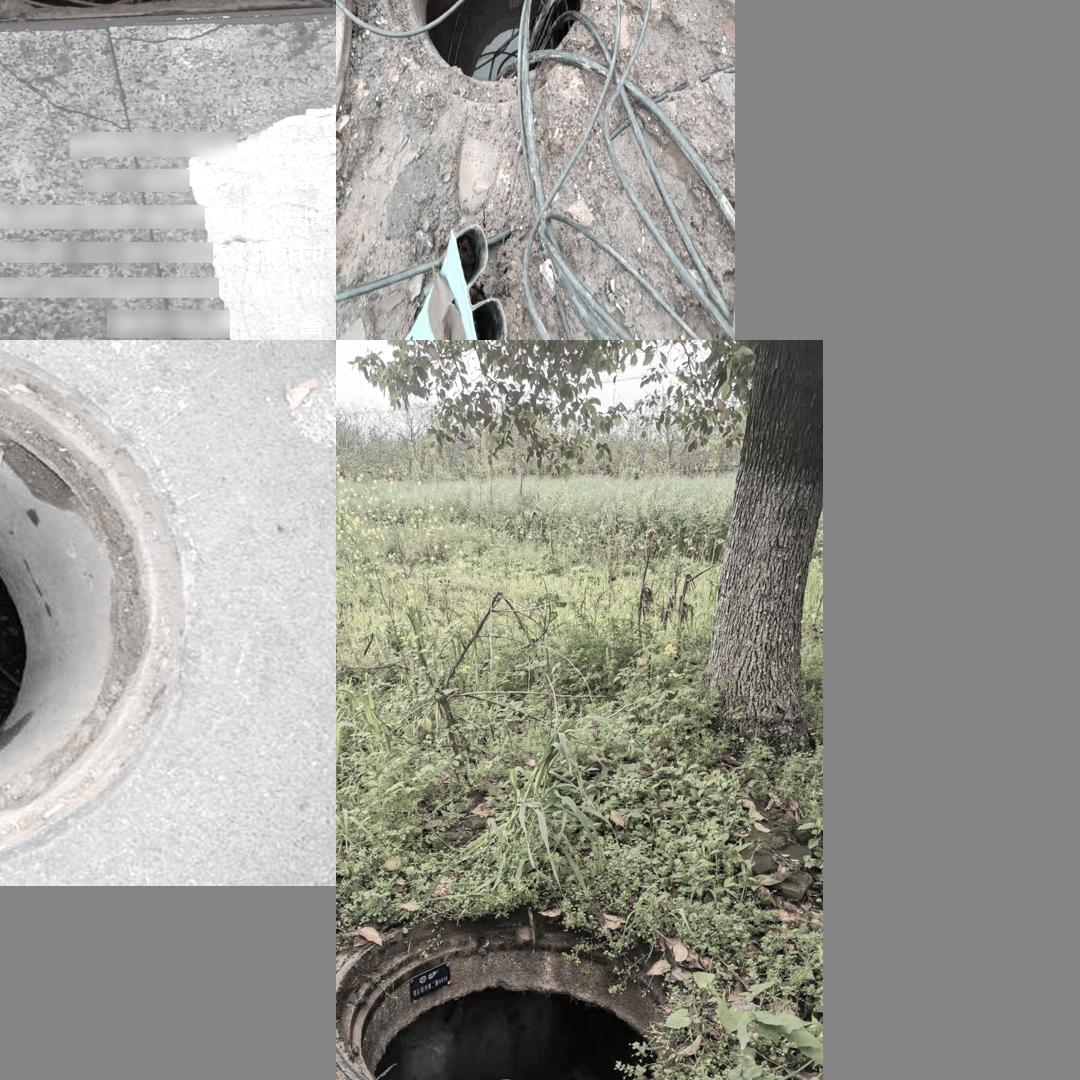lose: (0, 345, 196, 874), (336, 910, 693, 1080), (0, 0, 313, 85), (374, 0, 609, 113)
